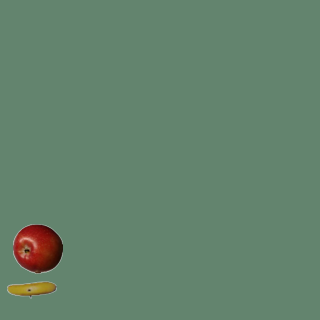Apple Braeburn: (12, 223, 62, 273)
Banana: (6, 264, 56, 314)
